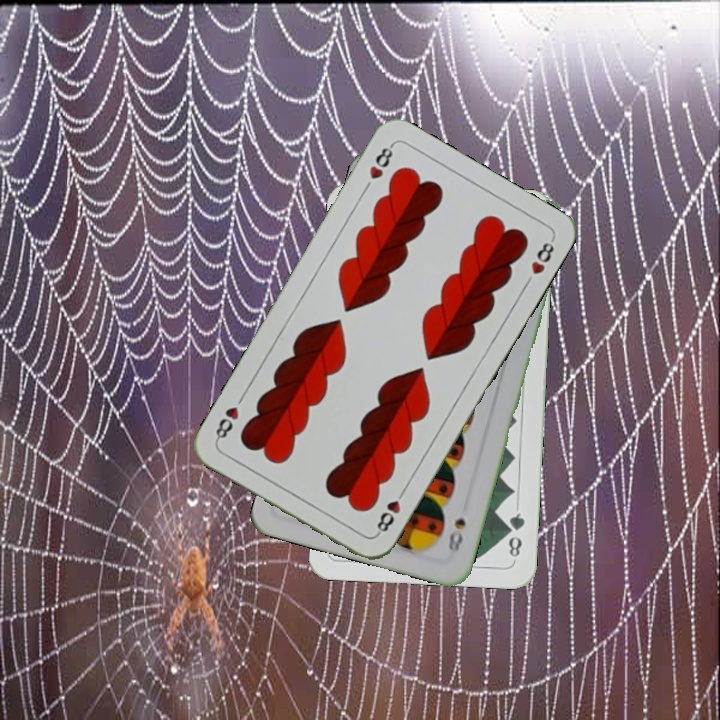G8: (503, 509, 528, 563)
H8: (372, 484, 409, 538), (365, 140, 397, 182)
S8: (443, 514, 468, 555)
